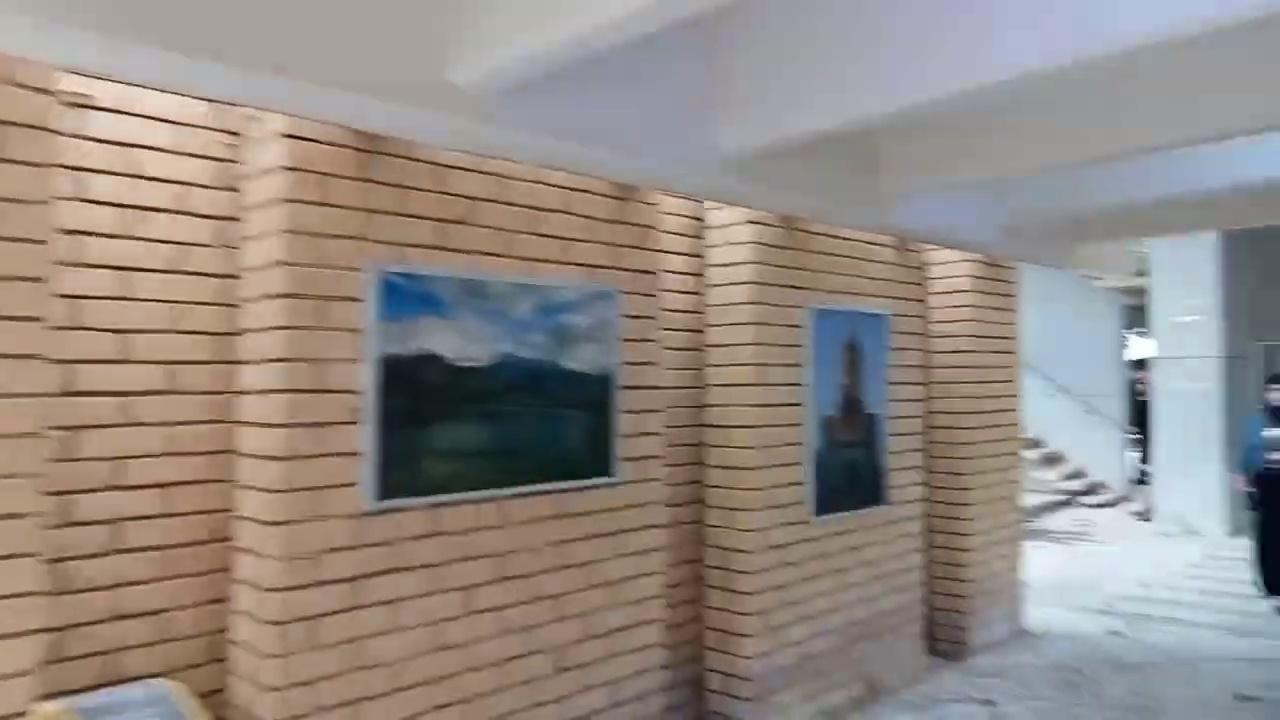person: (1239, 372, 1279, 597)
